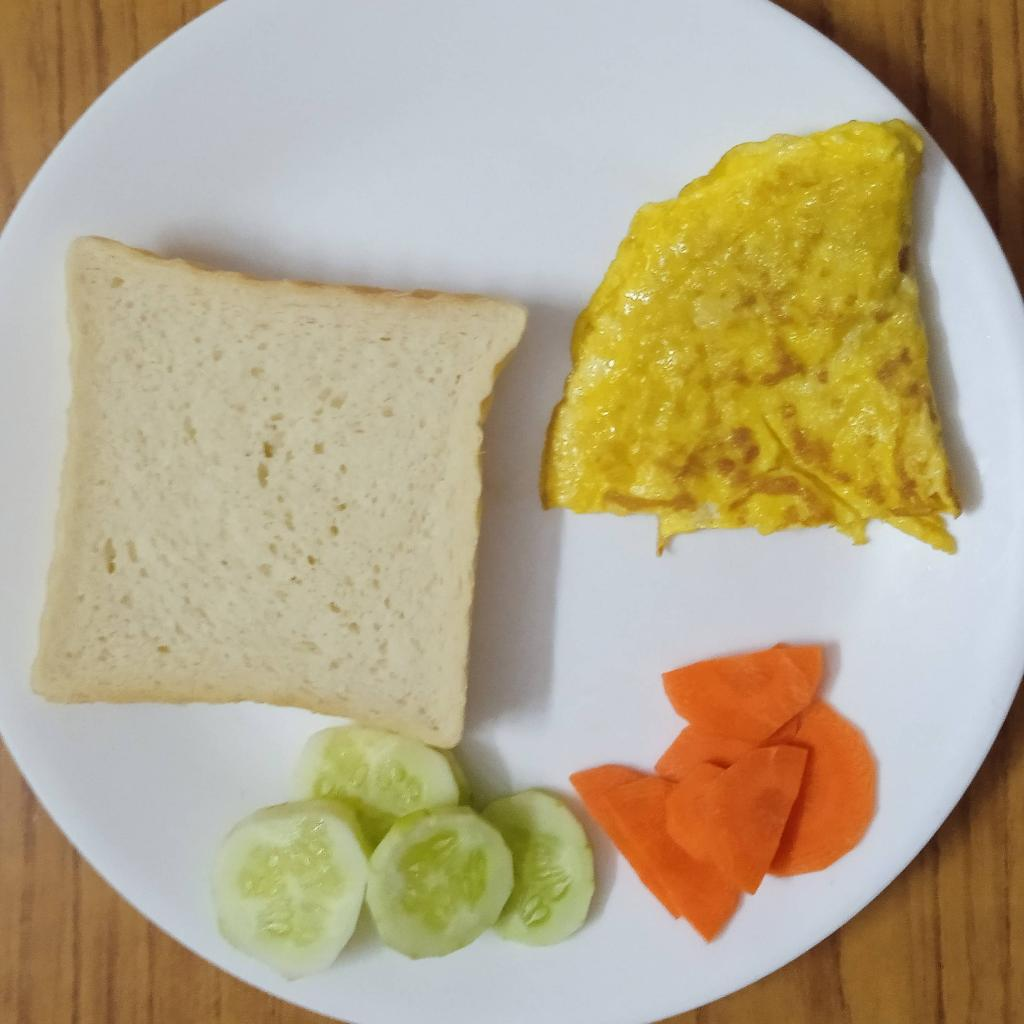bread: (26, 231, 533, 750)
carrot: (573, 643, 882, 946)
cucumber: (201, 732, 595, 980)
egg-poached: (539, 119, 962, 558)
